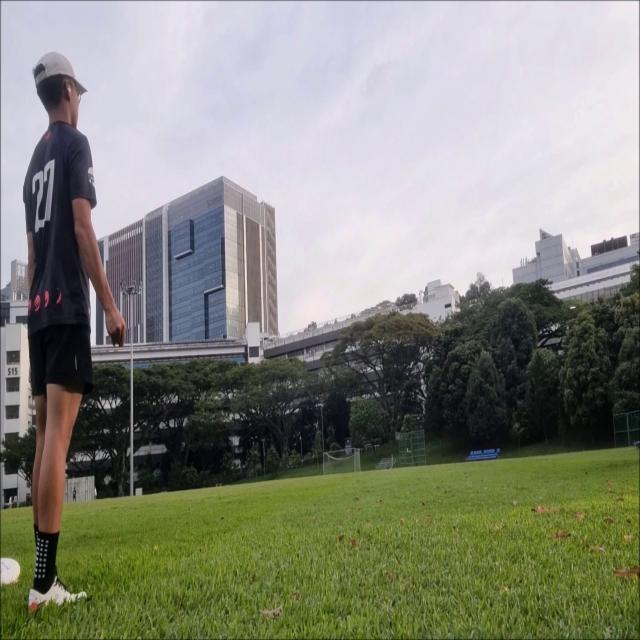disc: (570, 305, 576, 310)
